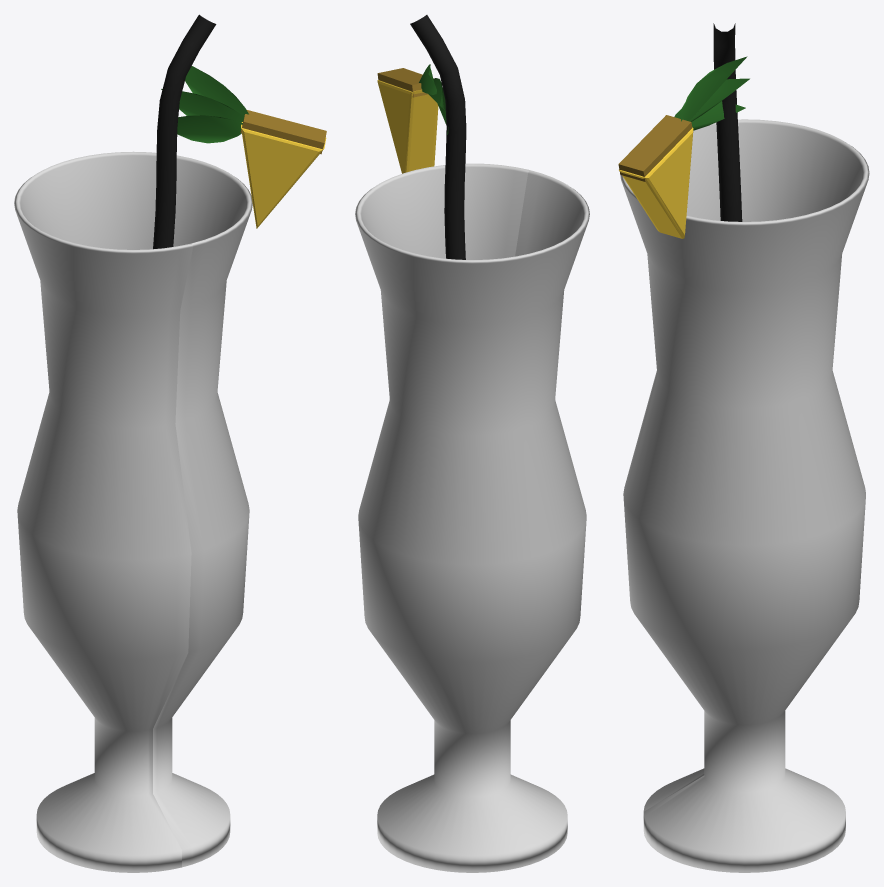
The model's file is bluelagoon.glb.
3 renders of one model, left to right at view 1: azimuth 30°, elevation 25°; view 2: azimuth 150°, elevation 25°; view 3: azimuth 270°, elevation 25°, orthographic. The views are drawn at different scales.
Parts seen in each view (by area): view 1: glass, garnish (×3), straw; view 2: glass, garnish (×3), straw; view 3: glass, garnish (×3), straw.
Part boxes in pixels (x1=…): glass: x1=14, y1=151, x2=252, y2=872; garnish (×3): x1=161, y1=66, x2=326, y2=228; straw: x1=153, y1=14, x2=216, y2=249; glass: x1=355, y1=163, x2=589, y2=872; garnish (×3): x1=377, y1=64, x2=448, y2=173; straw: x1=410, y1=15, x2=466, y2=259; glass: x1=620, y1=119, x2=869, y2=872; garnish (×3): x1=618, y1=56, x2=749, y2=238; straw: x1=713, y1=23, x2=742, y2=221.
Size of the model in its own units: 0.0889 by 0.2767 by 0.0745.
